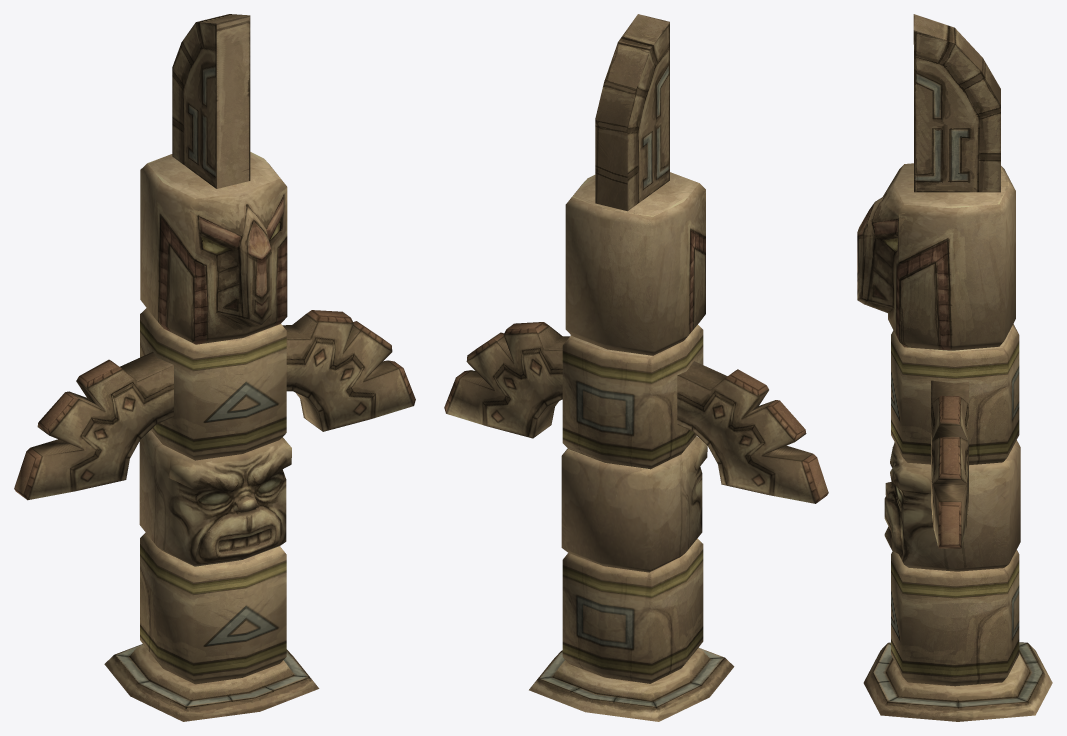
Rendered from toteme.FBX.
The picture shows the model from 3 angles, left to right: view 1: azimuth 30°, elevation 25°; view 2: azimuth 150°, elevation 25°; view 3: azimuth 270°, elevation 25°; orthographic projection. The views are drawn at different scales.
Visible parts, largest first — view 1: totem e; view 2: totem e; view 3: totem e.
Part boxes in pixels (box(x1,y1,x2,y2)): totem e: box(14, 14, 415, 721); totem e: box(444, 14, 828, 721); totem e: box(857, 14, 1052, 721).
Bounding box in the file's own units: 3.09 × 5.07 × 1.36.
